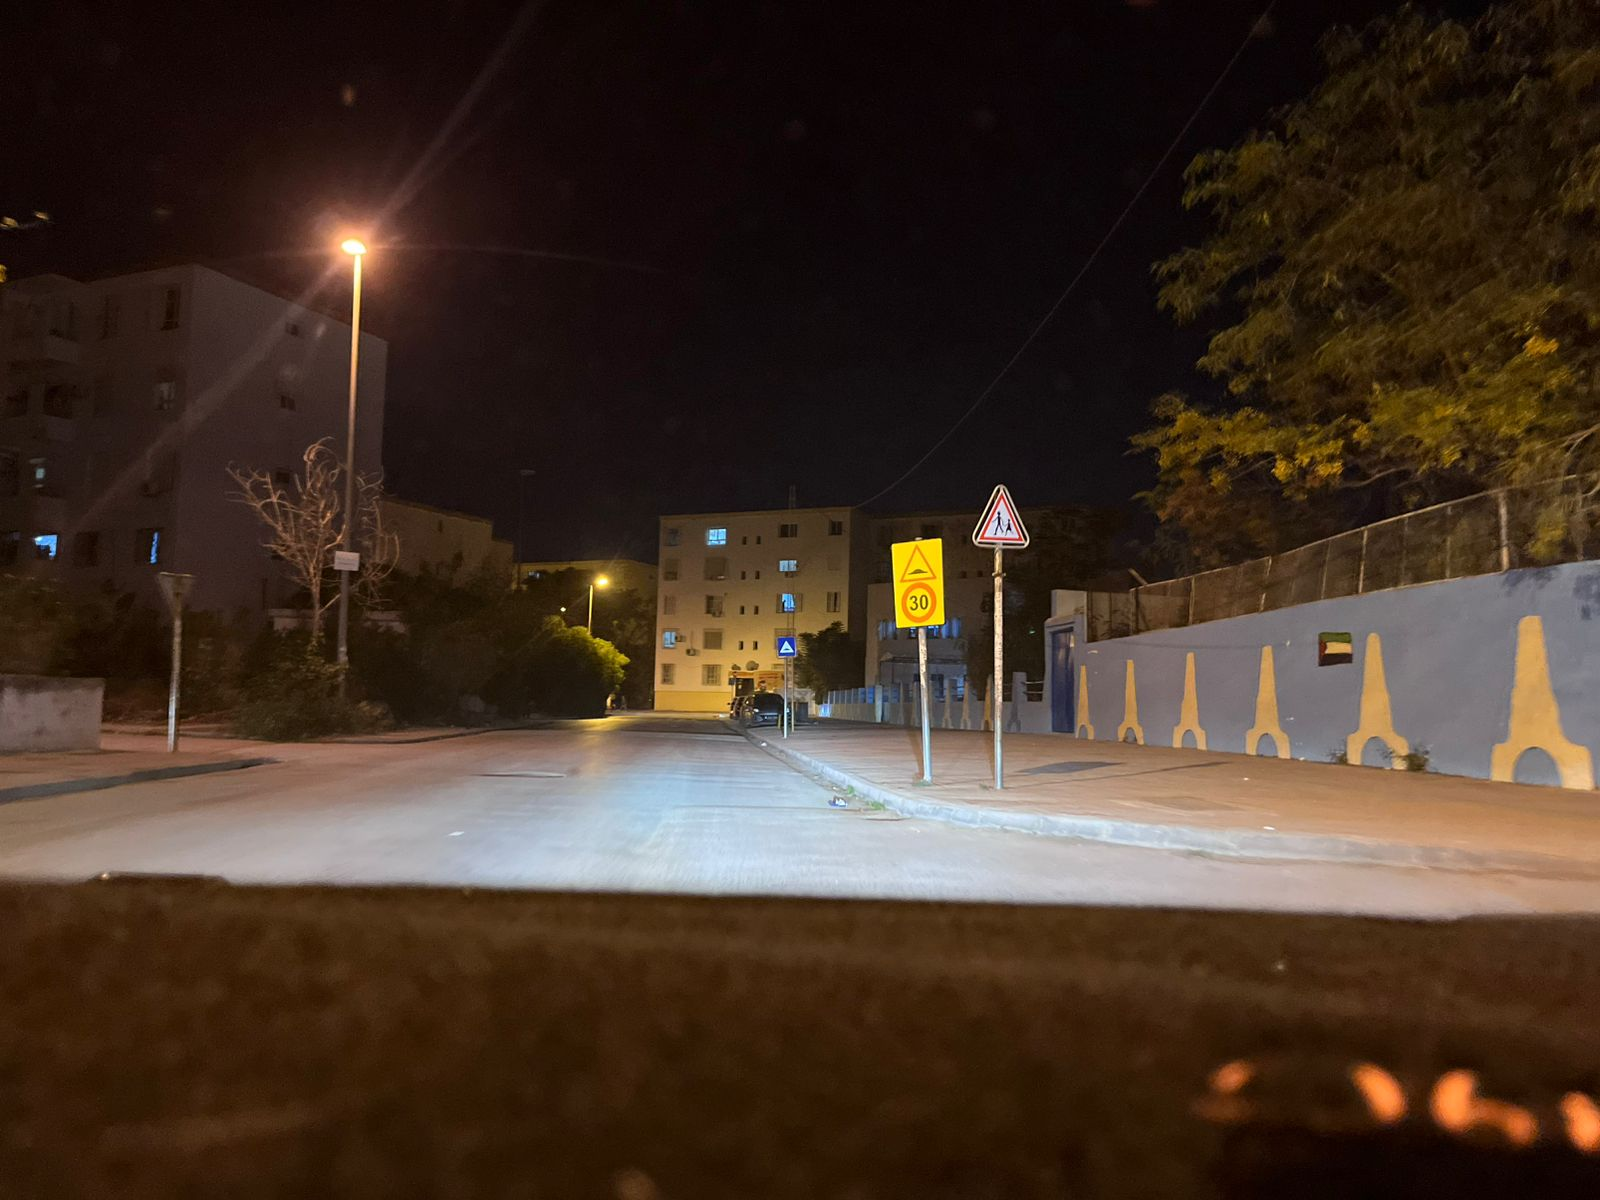SpeedLimit30: (889, 537, 945, 628)
